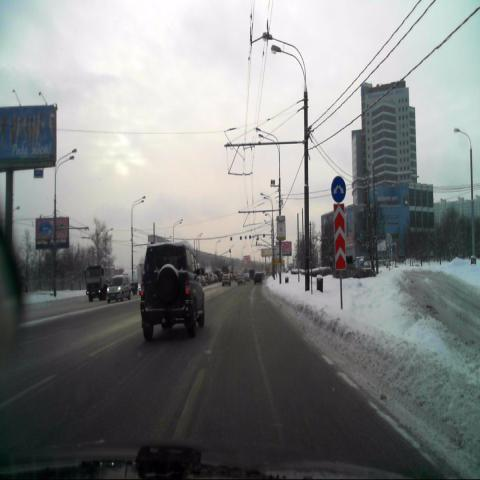4_2_3: (332, 176, 346, 202)
